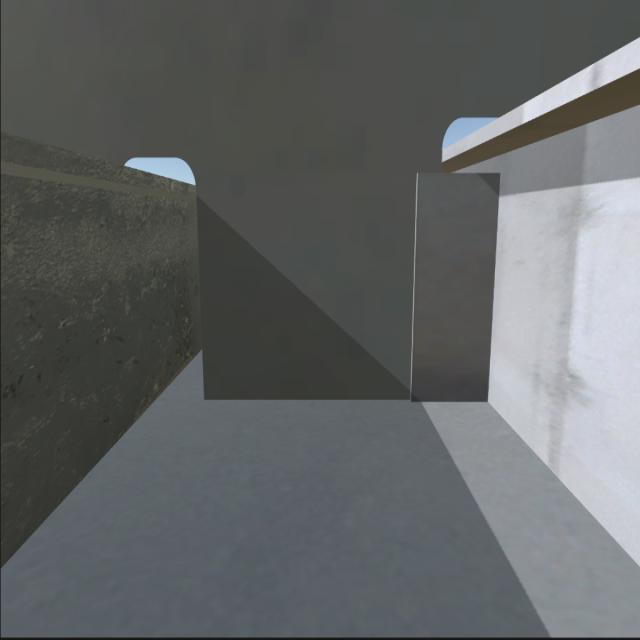fillet_yong_jeop_jang: (199, 390, 488, 407)
longi_yong_jeop_jang: (489, 173, 500, 401)
plate_CP01: (416, 173, 498, 396)
